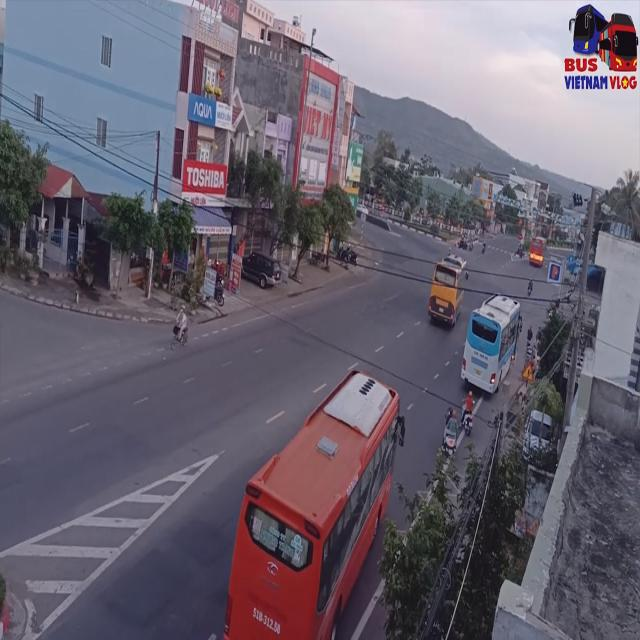bus: (221, 373, 407, 640), (461, 294, 517, 396), (427, 245, 466, 333)
motorbike: (442, 409, 458, 461), (460, 389, 474, 435)
